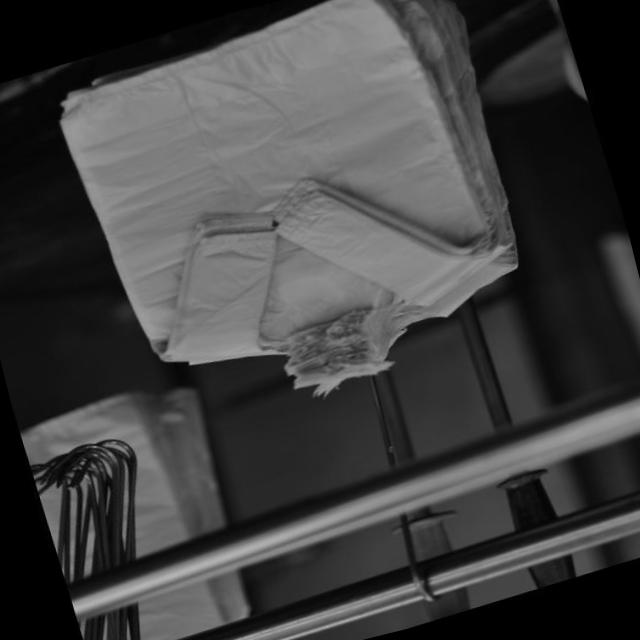KantongPlastik: (44, 0, 546, 440)
